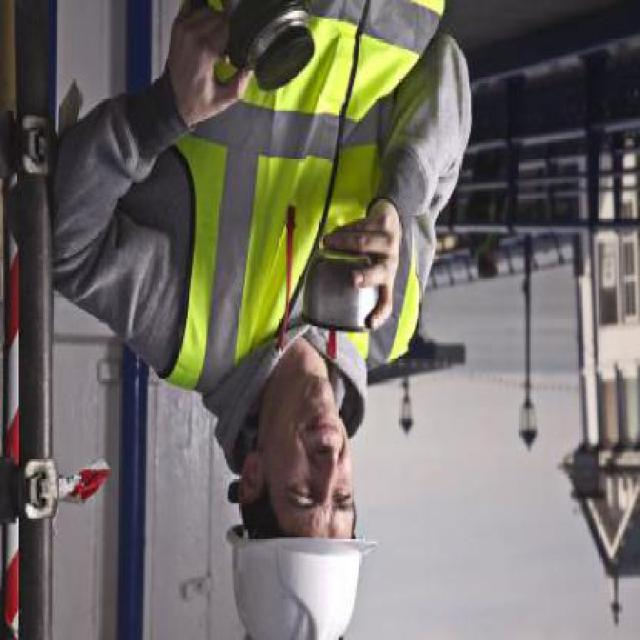safetyhelmet: (212, 361, 390, 639)
